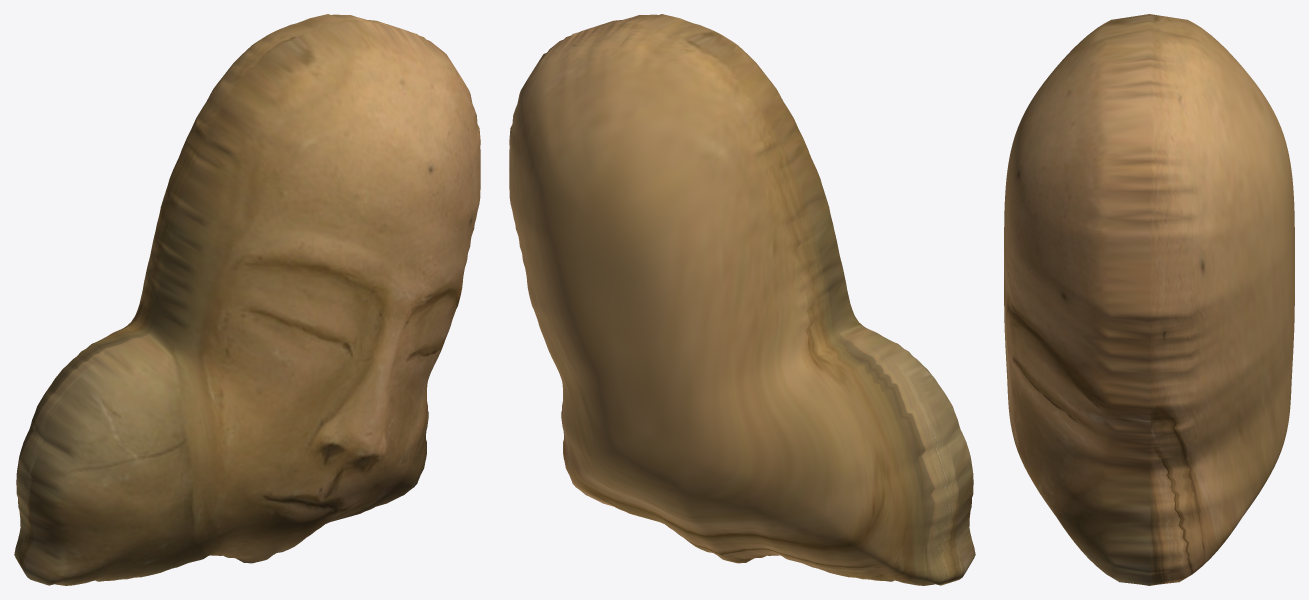
Rendered from rosto_23_11_web.glb.
The picture shows the model from 3 angles, left to right: view 1: azimuth 30°, elevation 25°; view 2: azimuth 150°, elevation 25°; view 3: azimuth 270°, elevation 25°; orthographic projection. The views are drawn at different scales.
Parts seen in each view (by area): view 1: Rosto_de_Ceramica; view 2: Rosto_de_Ceramica; view 3: Rosto_de_Ceramica.
Boxes of the visible parts, x1=… form: Rosto_de_Ceramica: x1=14, y1=14, x2=480, y2=585; Rosto_de_Ceramica: x1=509, y1=14, x2=975, y2=585; Rosto_de_Ceramica: x1=1004, y1=14, x2=1294, y2=585.
Size of the model in its own units: 0.1291 by 0.1409 by 0.0672.
Materials: 1 (1 with a texture image).
